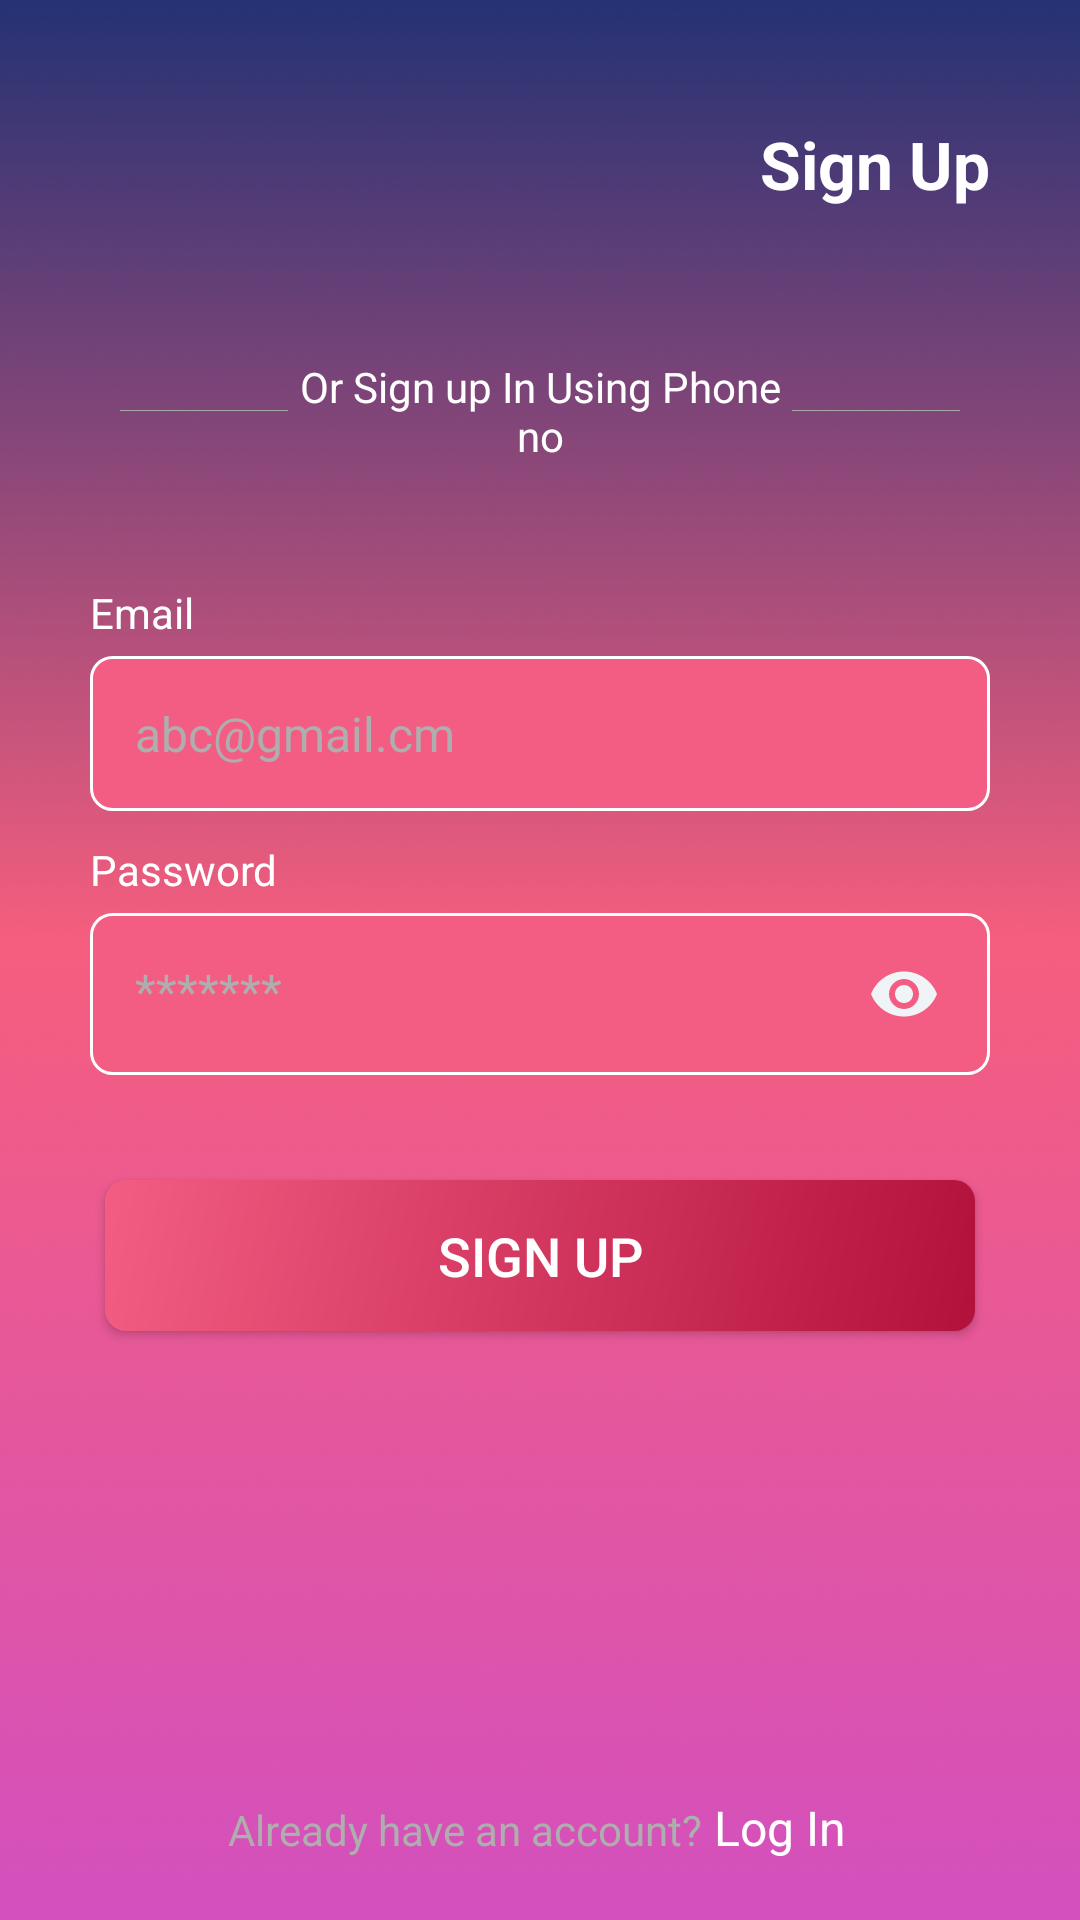

Screen size 1080px×1920px. Icon name, then its center in pixels as [x,y]:
eyes: [904,994]
